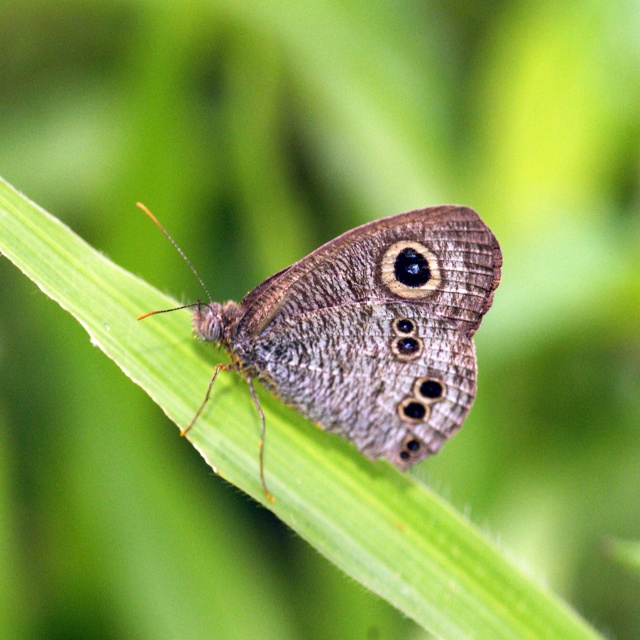Butterfly: (100, 202, 531, 483)
